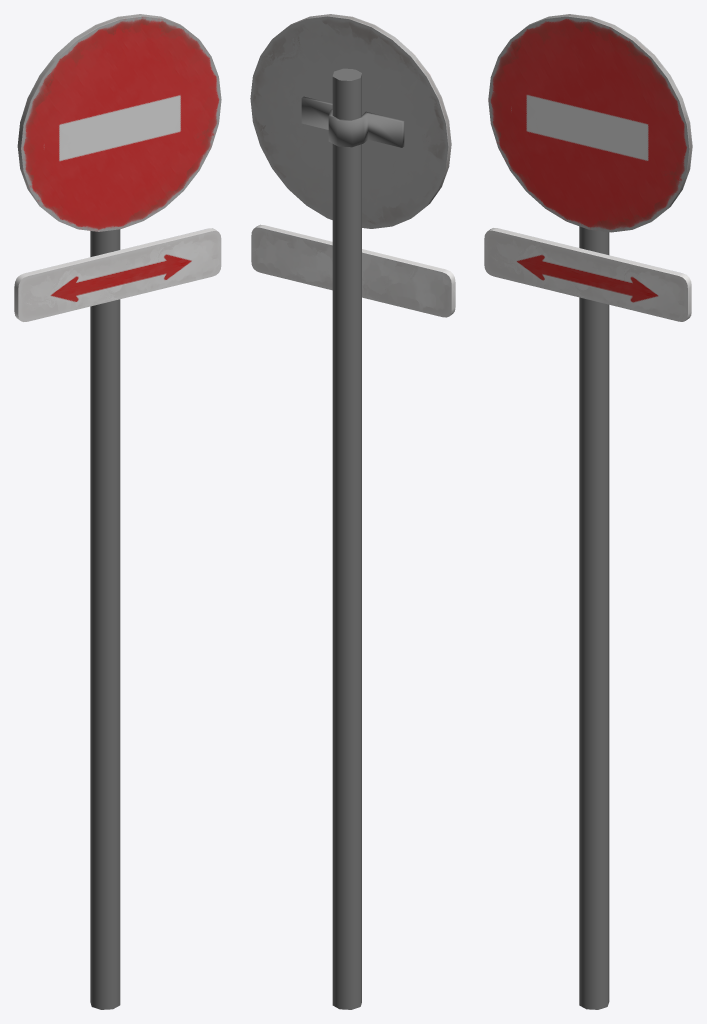
File: SM_sign_traffic_006.fbx
3 renders of one model, left to right at view 1: azimuth 30°, elevation 25°; view 2: azimuth 150°, elevation 25°; view 3: azimuth 330°, elevation 25°, orthographic.
Parts seen in each view (by area): view 1: Object32690; view 2: Object32690; view 3: Object32690.
Part boxes in pixels (left/top/right/bottom): Object32690: left=14, top=14, right=221, bottom=1009; Object32690: left=250, top=14, right=455, bottom=1009; Object32690: left=484, top=14, right=692, bottom=1009.
Bounding box in the file's own units: 23.93 × 111 × 4.28.
